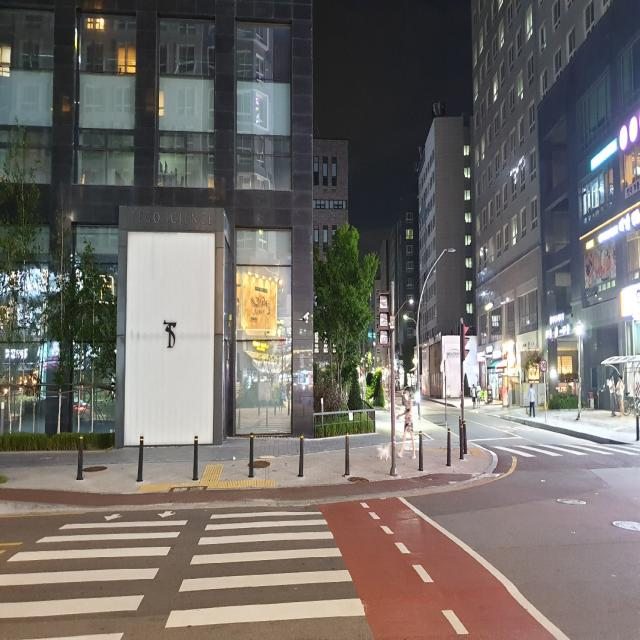횡단보도: (0, 505, 367, 640), (494, 435, 626, 466)
